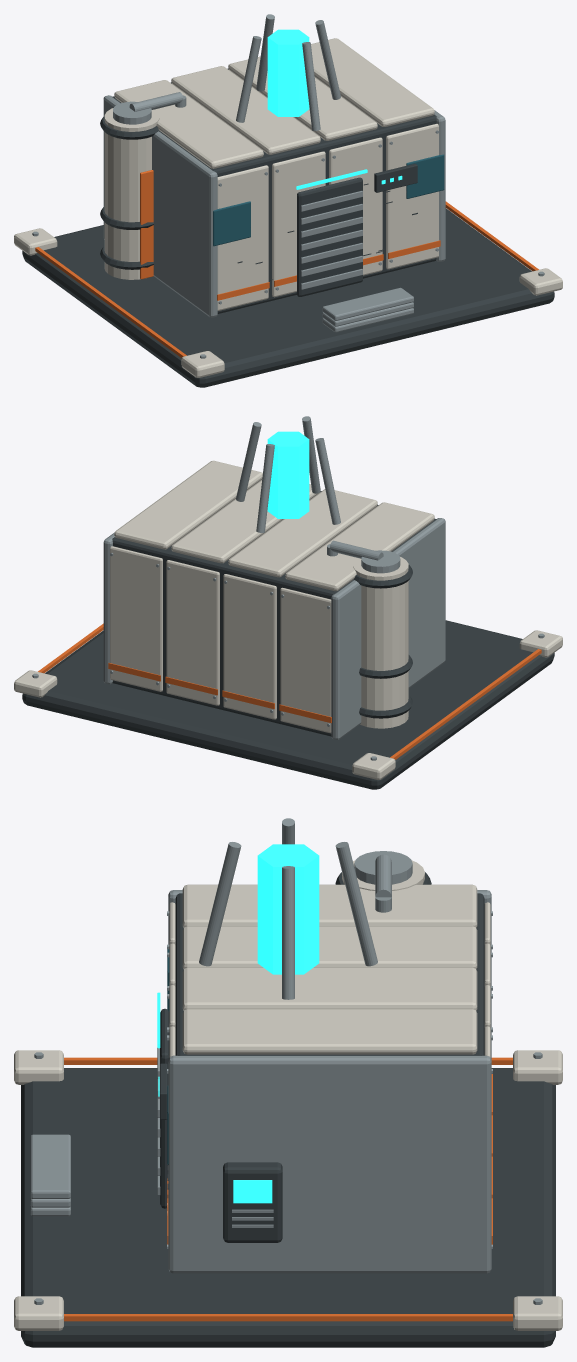
File: SM_ResearchLaboratory_Body.001.fbx
The picture shows the model from 3 angles, top to bottom: view 1: azimuth 30°, elevation 25°; view 2: azimuth 150°, elevation 25°; view 3: azimuth 270°, elevation 25°; orthographic projection. The views are drawn at different scales.
Visible parts, largest first — view 1: SM_ResearchLaboratory_Body.001; view 2: SM_ResearchLaboratory_Body.001; view 3: SM_ResearchLaboratory_Body.001.
Boxes of the visible parts, <box> form: SM_ResearchLaboratory_Body.001: <box>14,14,562,387</box>; SM_ResearchLaboratory_Body.001: <box>14,416,562,789</box>; SM_ResearchLaboratory_Body.001: <box>14,818,562,1347</box>.
Bounding box in the file's own units: 532 × 462 × 351.
